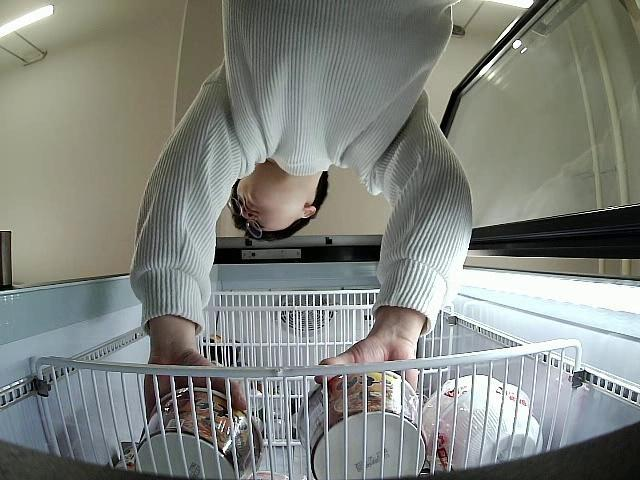05_nuguri_L: (296, 373, 427, 480), (137, 387, 264, 480)
